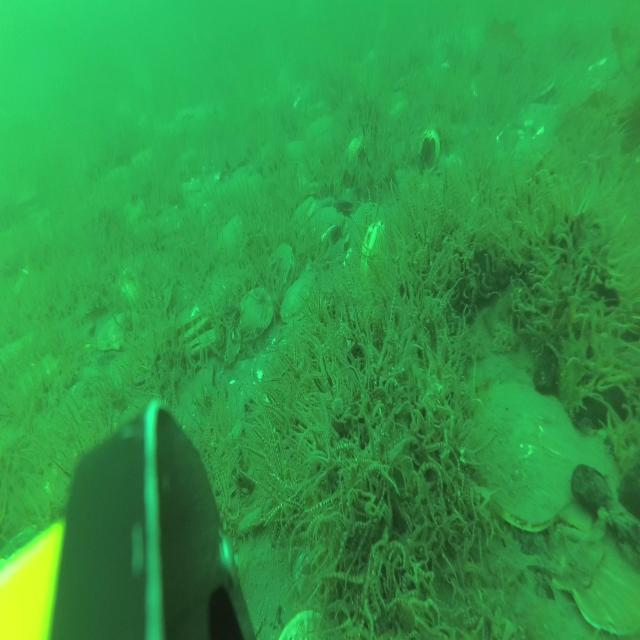scallop: (471, 382, 582, 533), (572, 508, 640, 638), (551, 432, 625, 537), (546, 501, 612, 588), (236, 289, 272, 340), (282, 269, 316, 322), (99, 308, 140, 351), (268, 242, 298, 294), (217, 220, 248, 266), (177, 306, 211, 344), (352, 203, 386, 237), (309, 210, 341, 245), (185, 332, 222, 362), (292, 196, 318, 230), (345, 131, 363, 172), (284, 138, 308, 164)
